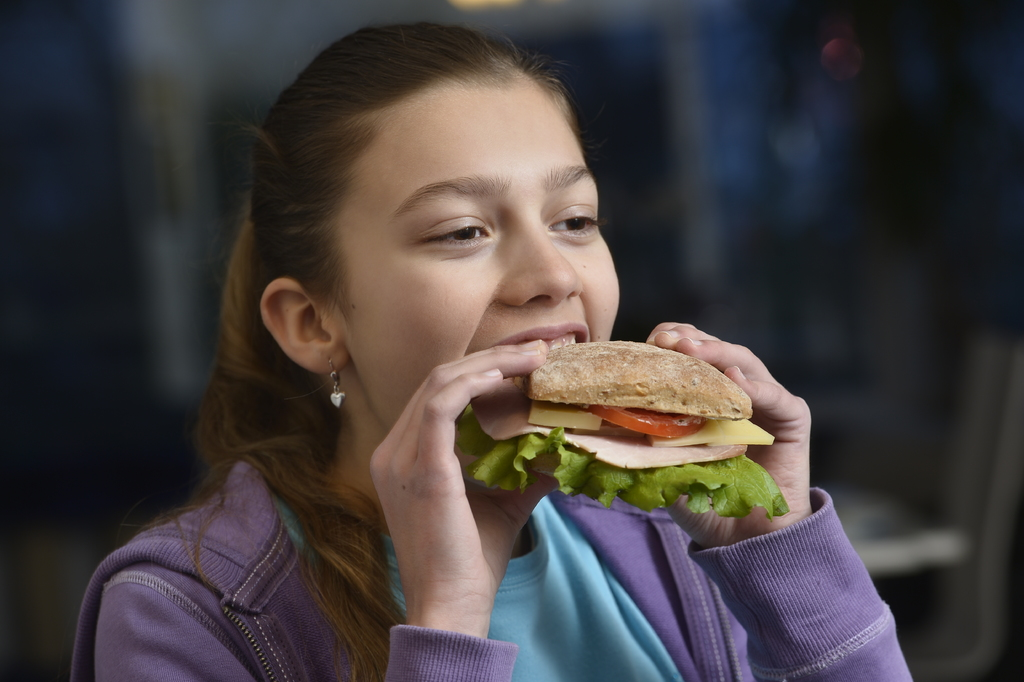hamburger: (456, 342, 788, 523)
